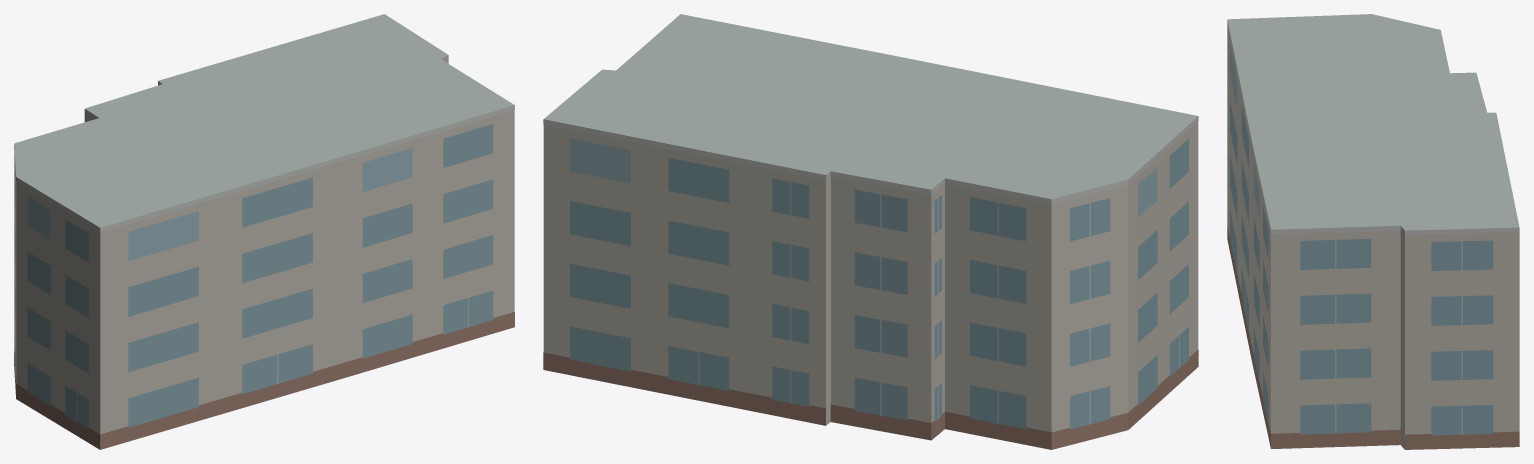
Rendered from survey-upis-32639306.glb.
The picture shows the model from 3 angles, left to right: view 1: azimuth 30°, elevation 25°; view 2: azimuth 150°, elevation 25°; view 3: azimuth 270°, elevation 25°; orthographic projection. The views are drawn at different scales.
Visible parts, largest first — view 1: survey-upis-32639306.tmp; view 2: survey-upis-32639306.tmp; view 3: survey-upis-32639306.tmp.
Boxes of the visible parts, left/top/right/bottom form: survey-upis-32639306.tmp: left=14, top=14, right=514, bottom=449; survey-upis-32639306.tmp: left=543, top=14, right=1198, bottom=449; survey-upis-32639306.tmp: left=1227, top=14, right=1519, bottom=449.
Bounding box in the file's own units: 23.93 × 11.3 × 13.66.
